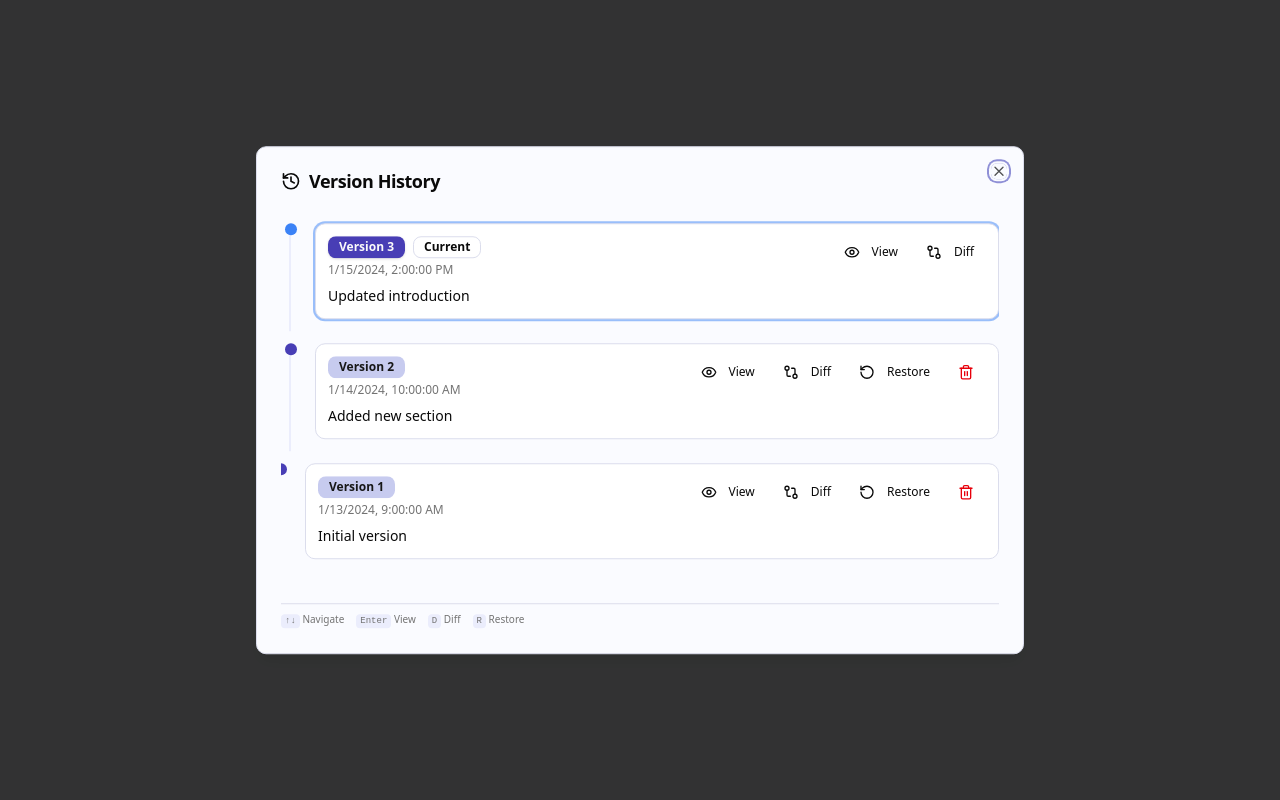
Test: VersionHistory › Version View › should show Back to Timeline button in view mode
Expected: the text "Version 2" is shown, [328,356,405,378]
Click the button "View" in the row of "1/14/2024, 10:00:00 AM" at (728,372), box [688,356,767,388]
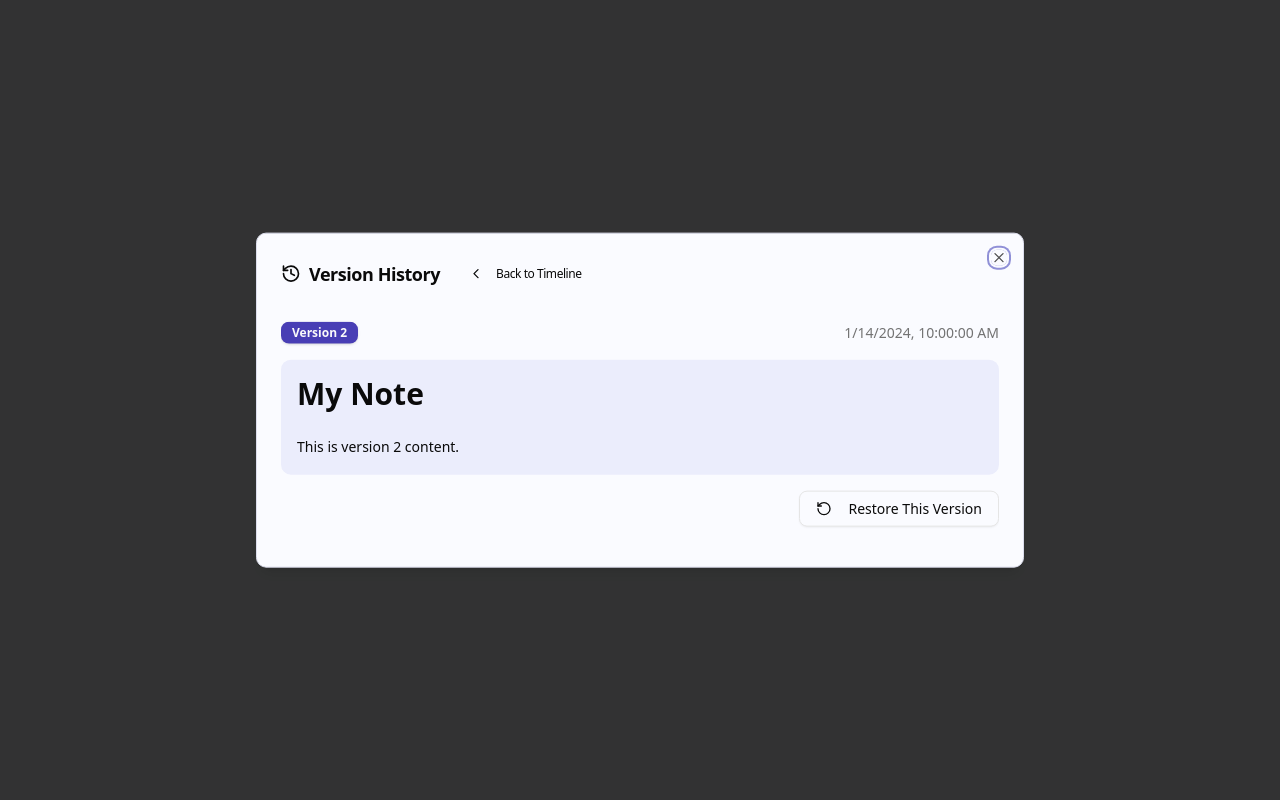
Expected: the button "Back to Timeline" is shown, [456,258,594,290]
